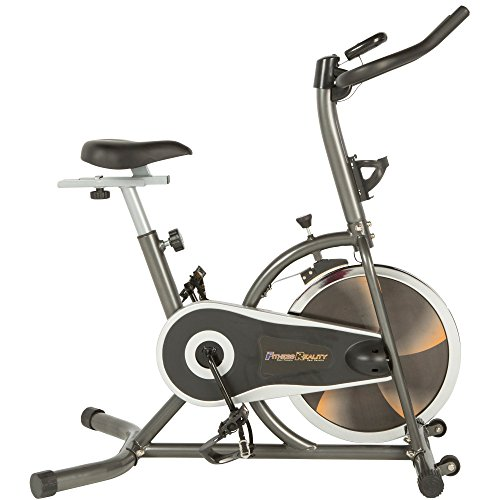gym_bike: (33, 7, 471, 495)
